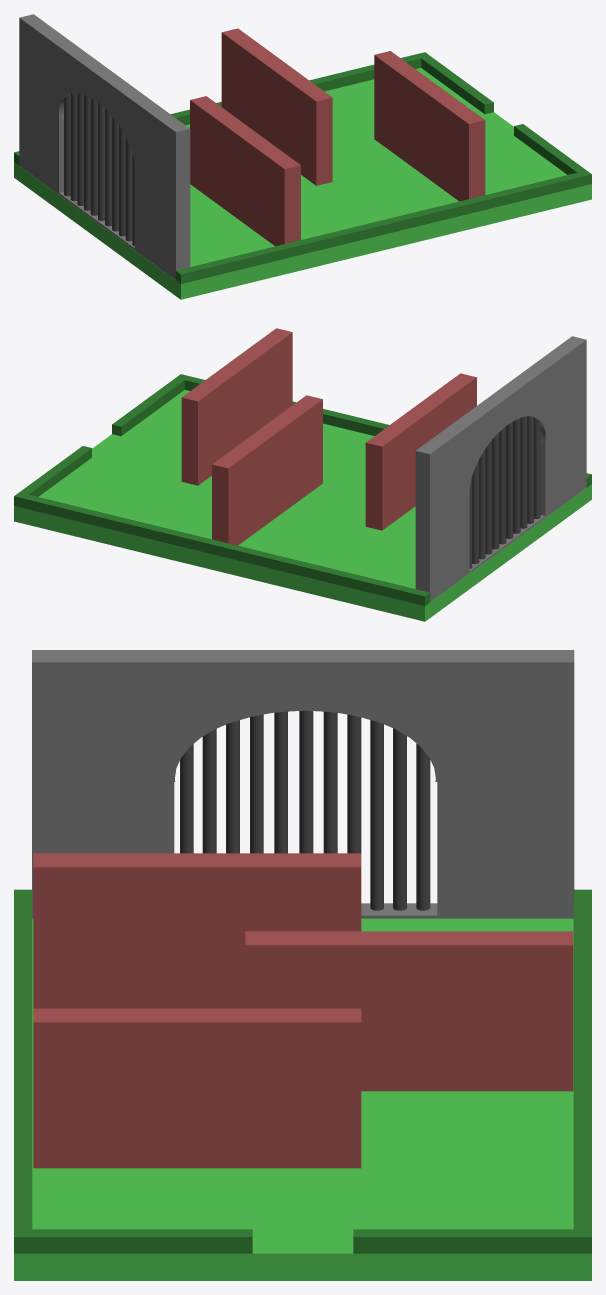
3 renders of one model, top to bottom at view 1: azimuth 30°, elevation 25°; view 2: azimuth 150°, elevation 25°; view 3: azimuth 270°, elevation 25°, orthographic. The views are drawn at different scales.
Parts seen in each view (by area): view 1: pCube7, pasted__pCube8 (×2), pCube6, pCube8, pasted__pCylinder2; view 2: pCube7, pCube6, pasted__pCube8 (×2), pCube8, pasted__pCylinder2; view 3: pCube7, pCube6, pasted__pCube8 (×2), pCube8, pasted__pCylinder2.
Boxes of the visible parts, x1,y1,x2,y2 form: pCube7: [14, 52, 591, 299]; pasted__pCube8 (×2): [190, 28, 332, 246]; pCube6: [19, 14, 190, 279]; pCube8: [374, 51, 485, 201]; pasted__pCylinder2: [64, 93, 134, 245]; pCube7: [14, 374, 591, 621]; pCube6: [415, 336, 586, 601]; pasted__pCube8 (×2): [212, 373, 476, 545]; pCube8: [181, 328, 292, 485]; pasted__pCylinder2: [469, 416, 540, 568]; pCube7: [14, 889, 591, 1280]; pCube6: [32, 650, 574, 918]; pasted__pCube8 (×2): [33, 853, 573, 1091]; pCube8: [33, 1008, 361, 1168]; pasted__pCylinder2: [180, 711, 430, 910].
Bounding box in the file's own units: 22.4 × 8.52 × 15.75.
